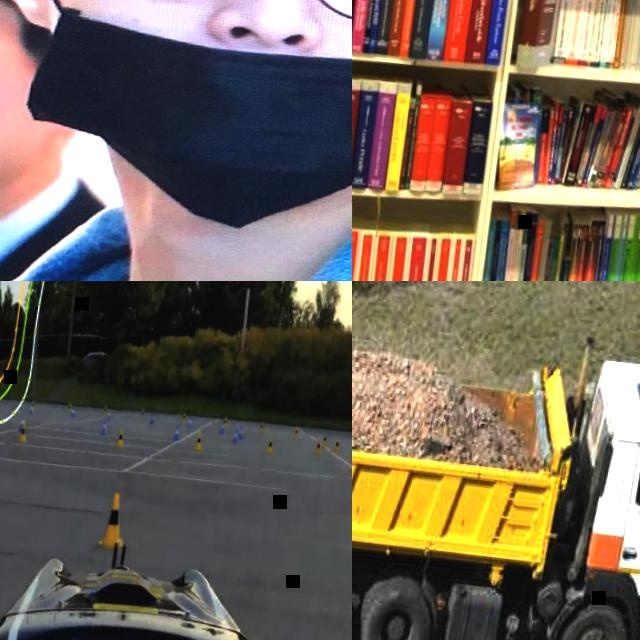Mask: (0, 0, 352, 259)
NO-Mask: (0, 69, 63, 227)
NO-Safety Vest: (0, 216, 352, 281)
Person: (0, 0, 352, 281), (0, 0, 166, 281)
Safety Cone: (97, 486, 134, 549), (16, 418, 29, 445), (115, 424, 127, 450), (193, 429, 205, 451), (264, 436, 275, 458), (331, 437, 342, 459), (171, 422, 182, 444), (320, 432, 330, 454), (99, 416, 109, 438), (229, 428, 239, 450), (312, 437, 322, 458)
machinery: (352, 304, 640, 640)
vehicle: (0, 504, 352, 640)
